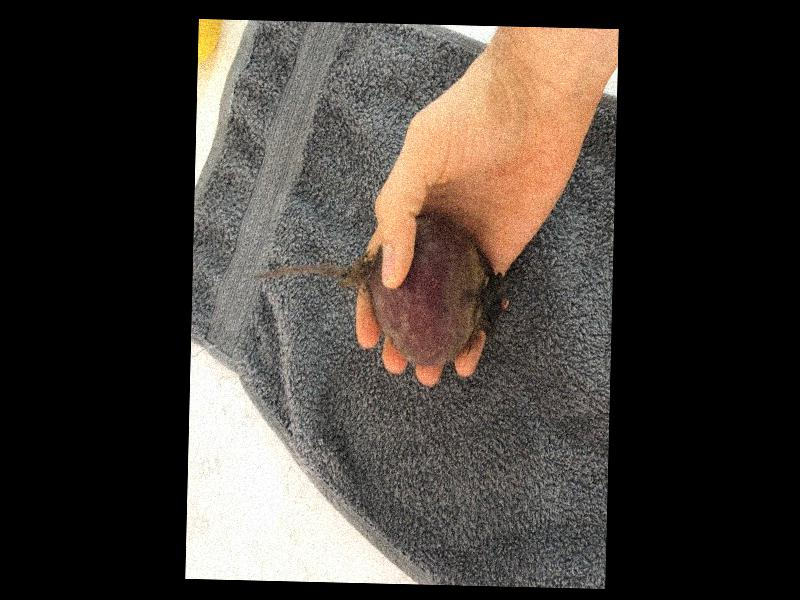Beet: (252, 210, 504, 369)
